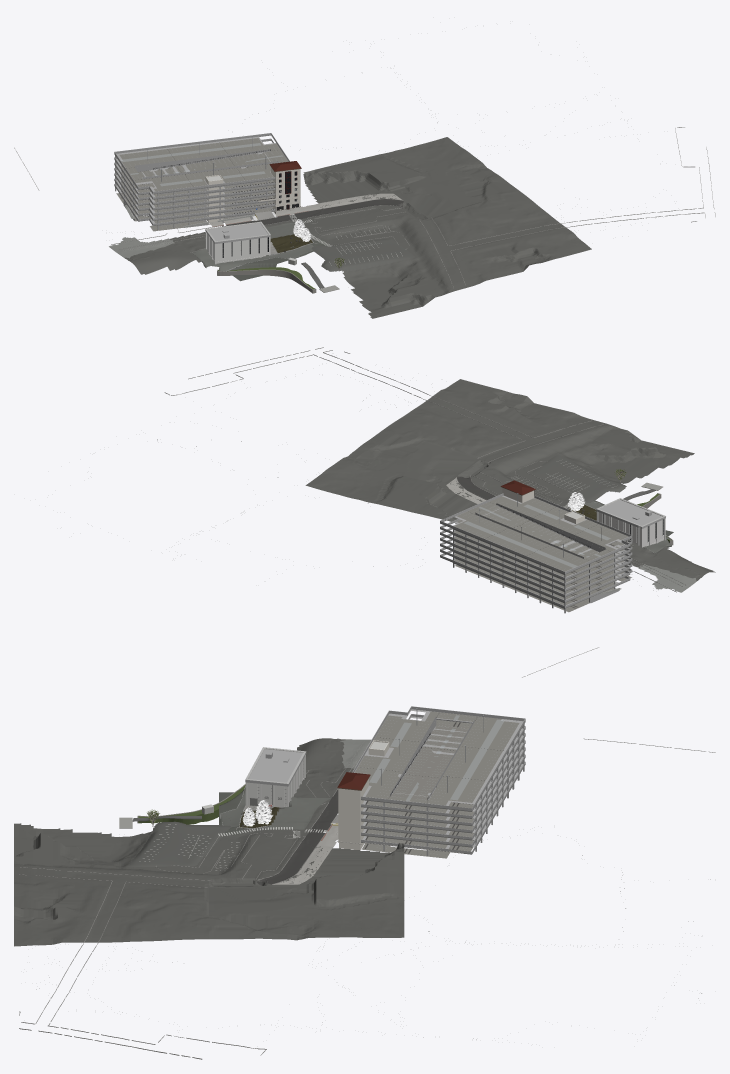
The picture shows the model from 3 angles, top to bottom: view 1: azimuth 30°, elevation 25°; view 2: azimuth 150°, elevation 25°; view 3: azimuth 270°, elevation 25°; orthographic projection. The views are drawn at different scales.
Parts seen in each view (by area): view 1: bz_terrain_1m_ext_rhd_south, es_rhd_top_wearing_surface, KY_rhd_entrance_lintel_soffit (clear height UNVERIFIED), ff_lot7_south_asphalt, fo_cogen_body, cb_curbs_osm (15 cm reveal, cuts at OSM crossings; UNVERIFIE, Red Hawk Deck, KZ_rhd_se_core_centre_stucco_infill (photo: punched windows , fn_rhd_aisle_asphalt, ev_rhd_girders, KY_college_ave_carriageway_asphalt (OSM centreline + kx curb, KX2_rhd_college_ave_walk_concrete (photo: paved; joints/fini (+4 smaller); view 2: bz_terrain_1m_ext_rhd_south, es_rhd_top_wearing_surface, KY_rhd_entrance_lintel_soffit (clear height UNVERIFIED), ff_lot7_south_asphalt, fo_cogen_body, Red Hawk Deck, cb_curbs_osm (15 cm reveal, cuts at OSM crossings; UNVERIFIE, ev_rhd_girders, es_rhd_top_aisle_wear; view 3: bz_terrain_1m_ext_rhd_south, es_rhd_top_wearing_surface, KY_rhd_entrance_lintel_soffit (clear height UNVERIFIED), ff_lot7_south_asphalt, fo_cogen_body, cb_curbs_osm (15 cm reveal, cuts at OSM crossings; UNVERIFIE, KZ_rhd_se_core_centre_stucco_infill (photo: punched windows , Red Hawk Deck, fn_rhd_aisle_asphalt, KY_college_ave_carriageway_asphalt (OSM centreline + kx curb, es_rhd_top_aisle_wear, KX2_rhd_college_ave_walk_concrete (photo: paved; joints/fini (+1 smaller).
Boxes of the visible parts, bbox=[...] form: bz_terrain_1m_ext_rhd_south: bbox=[109, 137, 591, 318]; es_rhd_top_wearing_surface: bbox=[116, 138, 288, 231]; KY_rhd_entrance_lintel_soffit (clear height UNVERIFIED): bbox=[114, 133, 296, 229]; ff_lot7_south_asphalt: bbox=[311, 238, 414, 271]; fo_cogen_body: bbox=[205, 222, 270, 264]; cb_curbs_osm (15 cm reveal, cuts at OSM crossings; UNVERIFIE: bbox=[14, 127, 715, 288]; Red Hawk Deck: bbox=[114, 135, 275, 225]; KZ_rhd_se_core_centre_stucco_infill (photo: punched windows : bbox=[205, 167, 300, 222]; fn_rhd_aisle_asphalt: bbox=[192, 222, 313, 271]; ev_rhd_girders: bbox=[135, 153, 266, 225]; KY_college_ave_carriageway_asphalt (OSM centreline + kx curb: bbox=[220, 199, 403, 226]; KX2_rhd_college_ave_walk_concrete (photo: paved; joints/fini: bbox=[209, 193, 403, 226]; bz_terrain_1m_ext_rhd_south: bbox=[305, 379, 715, 594]; es_rhd_top_wearing_surface: bbox=[454, 496, 631, 612]; KY_rhd_entrance_lintel_soffit (clear height UNVERIFIED): bbox=[440, 493, 632, 613]; ff_lot7_south_asphalt: bbox=[532, 454, 626, 502]; fo_cogen_body: bbox=[596, 499, 665, 547]; Red Hawk Deck: bbox=[440, 493, 632, 608]; cb_curbs_osm (15 cm reveal, cuts at OSM crossings; UNVERIFIE: bbox=[164, 347, 686, 677]; ev_rhd_girders: bbox=[454, 513, 616, 608]; es_rhd_top_aisle_wear: bbox=[464, 504, 610, 567]; bz_terrain_1m_ext_rhd_south: bbox=[14, 738, 404, 946]; es_rhd_top_wearing_surface: bbox=[354, 711, 519, 858]; KY_rhd_entrance_lintel_soffit (clear height UNVERIFIED): bbox=[352, 706, 525, 855]; ff_lot7_south_asphalt: bbox=[128, 821, 230, 866]; fo_cogen_body: bbox=[245, 748, 305, 807]; cb_curbs_osm (15 cm reveal, cuts at OSM crossings; UNVERIFIE: bbox=[19, 738, 715, 1059]; KZ_rhd_se_core_centre_stucco_infill (photo: punched windows : bbox=[338, 740, 389, 849]; Red Hawk Deck: bbox=[361, 708, 525, 854]; fn_rhd_aisle_asphalt: bbox=[220, 772, 330, 829]; KY_college_ave_carriageway_asphalt (OSM centreline + kx curb: bbox=[257, 789, 338, 885]; es_rhd_top_aisle_wear: bbox=[369, 715, 504, 801]; KX2_rhd_college_ave_walk_concrete (photo: paved; joints/fini: bbox=[272, 825, 338, 884].
Bounding box in the file's own units: 339 × 36.7 × 288.
Materials: 83 (1 with a texture image).
